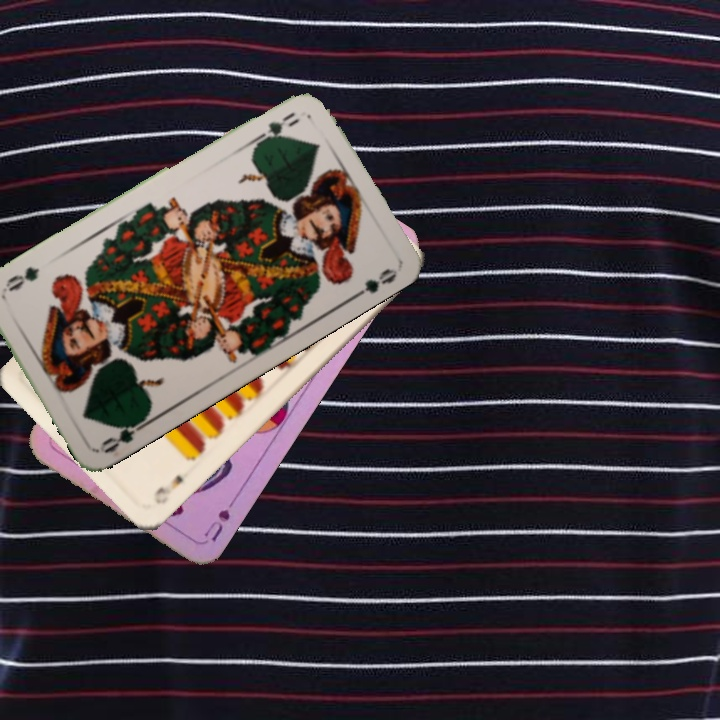E9: (149, 470, 186, 507)
GO: (96, 414, 152, 456), (249, 107, 303, 149)
SU: (200, 490, 241, 545)
